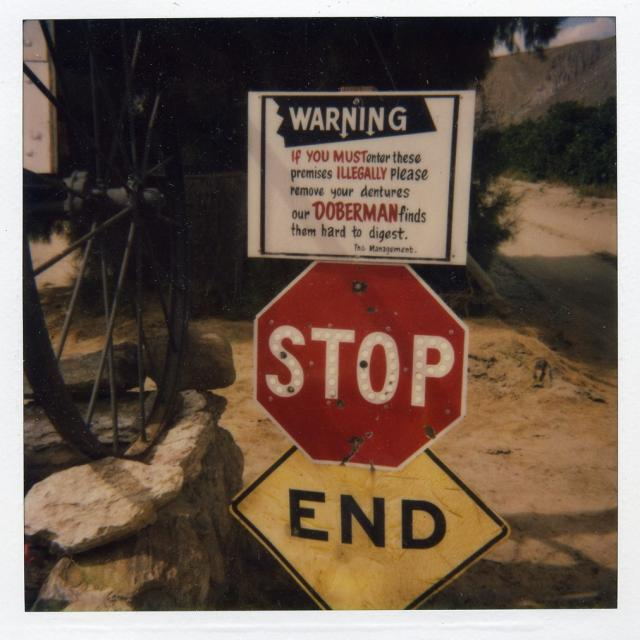Stop-sign: (253, 265, 471, 472)
